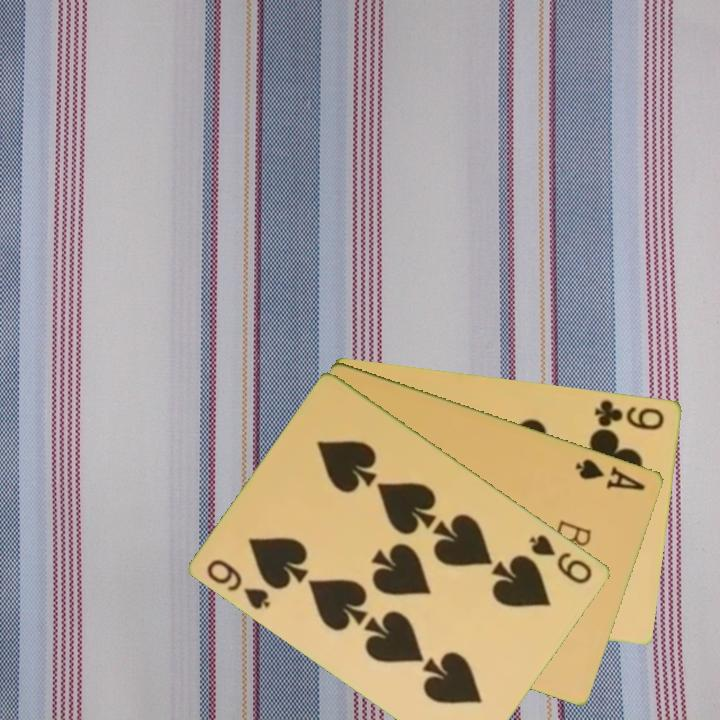9c: (591, 396, 668, 433)
9s: (203, 555, 274, 613), (526, 531, 596, 587)
As: (572, 455, 649, 493)
